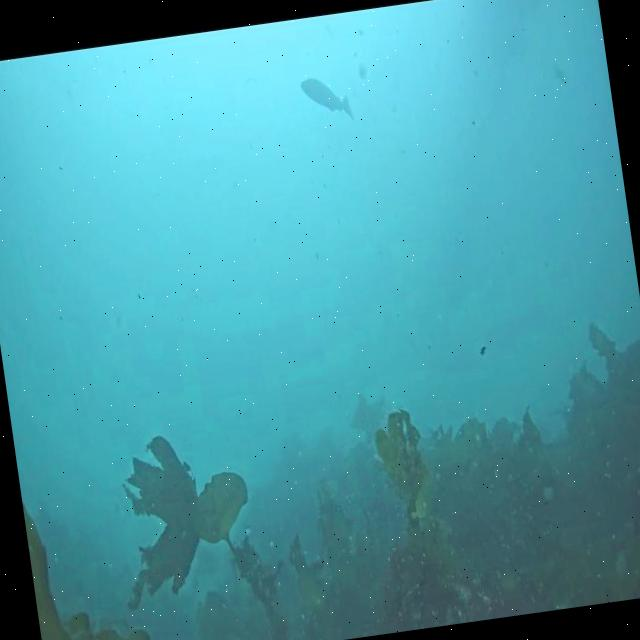fish: (300, 72, 354, 126)
